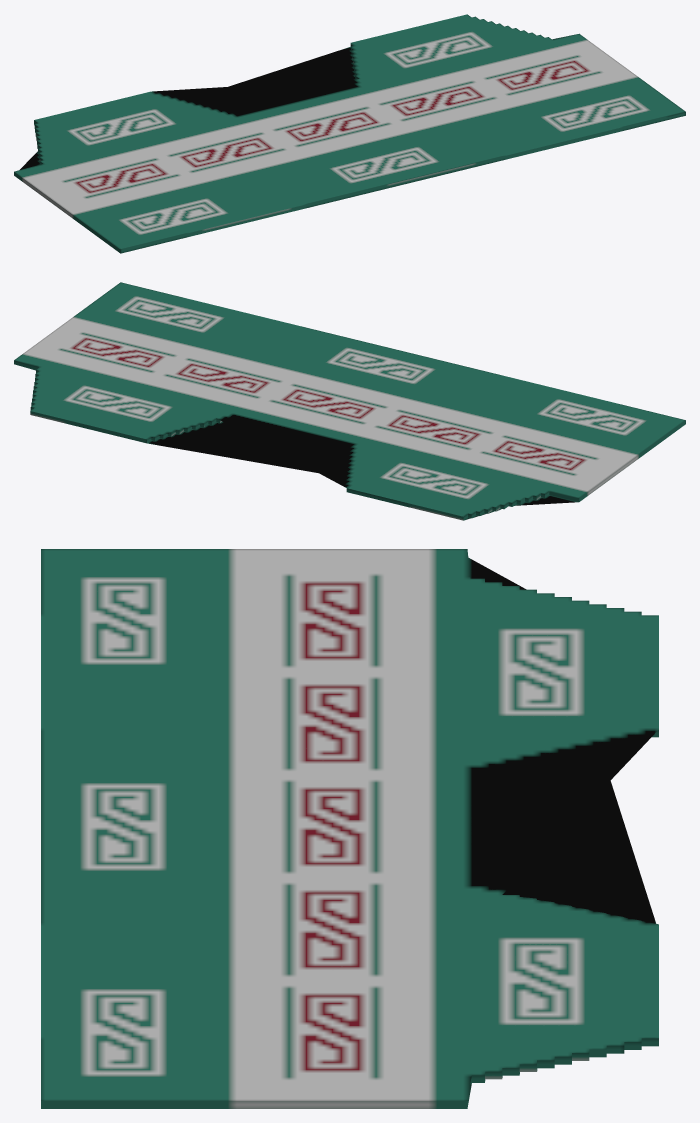
The model's file is RampaMarajoara-1.fbx.
The picture shows the model from 3 angles, top to bottom: view 1: azimuth 30°, elevation 25°; view 2: azimuth 150°, elevation 25°; view 3: azimuth 270°, elevation 25°; orthographic projection. The views are drawn at different scales.
Parts seen in each view (by area): view 1: Rampa marajoara-1; view 2: Rampa marajoara-1; view 3: Rampa marajoara-1.
Part boxes in pixels (bbox=[...]): Rampa marajoara-1: bbox=[14, 14, 685, 253]; Rampa marajoara-1: bbox=[14, 282, 685, 520]; Rampa marajoara-1: bbox=[41, 549, 658, 1108].
Size of the model in its own units: 1500 by 10 by 710.
